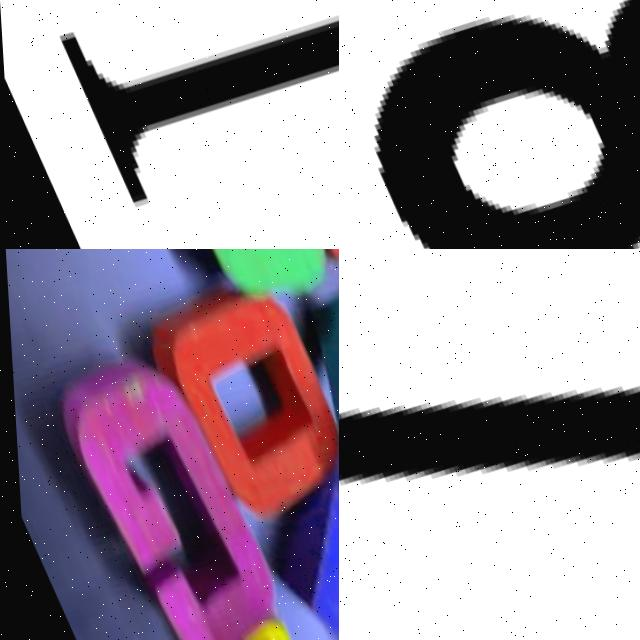8: (339, 0, 640, 249)
D: (267, 256, 339, 595)
G: (48, 331, 309, 640)
I: (54, 11, 339, 200), (339, 380, 640, 486)
O: (131, 249, 339, 531)
X: (177, 581, 339, 640)
